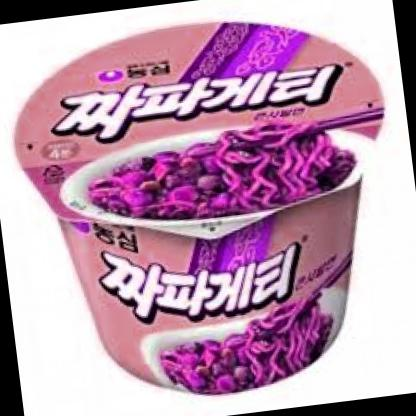Ramen: (4, 0, 415, 398)
